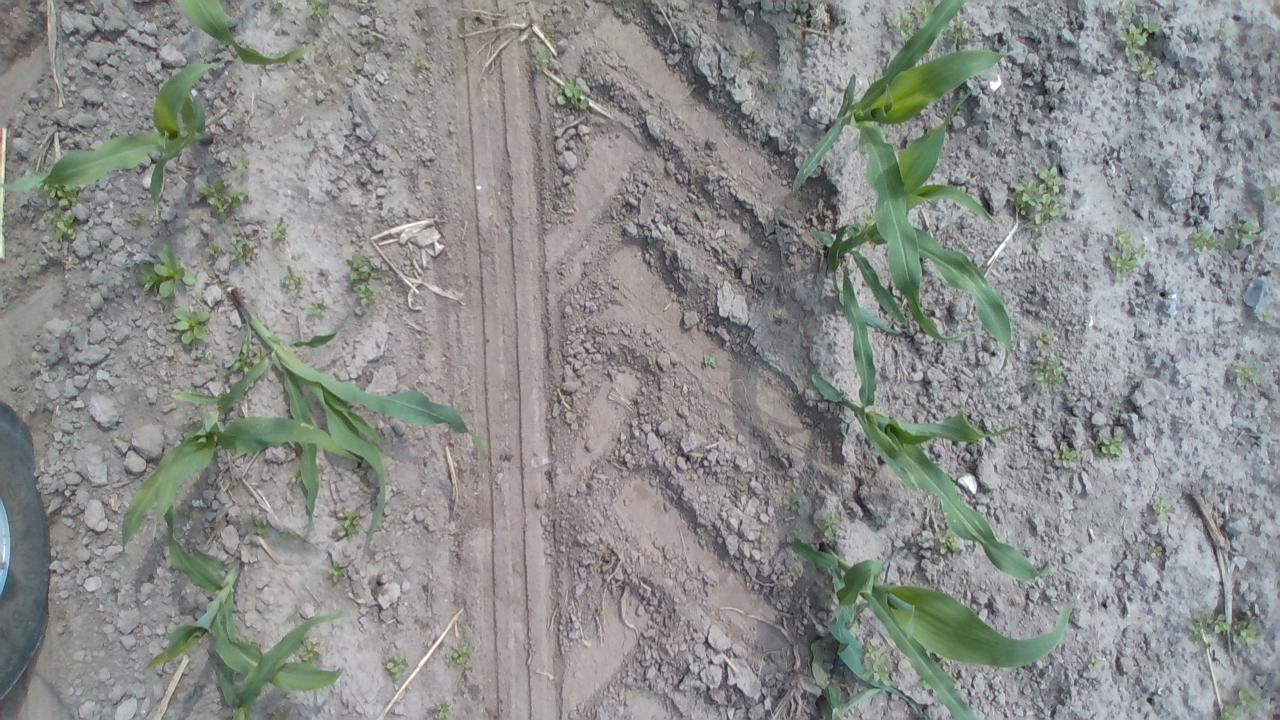Maize: (171, 283, 490, 542), (792, 0, 1022, 344), (808, 263, 1052, 582), (811, 86, 1013, 388), (790, 534, 1074, 720), (120, 414, 363, 574), (144, 505, 344, 689), (2, 60, 227, 206), (218, 613, 346, 720), (180, 0, 318, 65), (809, 636, 880, 720)
Weeds: (132, 241, 199, 300), (1008, 163, 1061, 231), (1104, 223, 1146, 282), (1118, 20, 1164, 68), (1186, 606, 1230, 652), (196, 178, 250, 214), (173, 306, 214, 344), (1223, 212, 1260, 254), (1218, 685, 1258, 719), (862, 644, 893, 686), (557, 77, 592, 110), (1032, 354, 1062, 391), (44, 208, 78, 240), (345, 253, 379, 284), (1086, 435, 1128, 459), (886, 6, 915, 39), (44, 182, 80, 208), (1226, 362, 1258, 391), (280, 262, 308, 294), (1231, 615, 1258, 646), (1185, 228, 1218, 253), (232, 342, 259, 371), (303, 0, 332, 27), (944, 18, 970, 48), (1052, 440, 1078, 470), (336, 509, 360, 540), (226, 238, 257, 262), (1128, 54, 1156, 80), (814, 512, 840, 540), (386, 650, 410, 679), (936, 530, 961, 554), (1258, 182, 1280, 206), (1114, 0, 1136, 23), (1150, 498, 1172, 521), (354, 282, 376, 305), (299, 640, 320, 664), (915, 0, 933, 26), (453, 640, 471, 666), (760, 74, 781, 96), (307, 298, 330, 318), (1029, 229, 1047, 253), (270, 218, 288, 241), (251, 516, 271, 536), (434, 701, 454, 720), (532, 52, 551, 72), (328, 562, 346, 583), (701, 351, 720, 370), (1216, 19, 1234, 39), (1036, 328, 1054, 348), (126, 208, 146, 226), (230, 153, 250, 171), (1110, 394, 1132, 408), (741, 46, 757, 65), (202, 241, 222, 256), (1260, 309, 1278, 325), (1087, 654, 1105, 670), (370, 34, 384, 52), (781, 498, 800, 511), (268, 2, 284, 17), (1149, 546, 1165, 560), (860, 210, 874, 225), (288, 472, 303, 486), (411, 54, 426, 68), (269, 710, 288, 720), (595, 604, 608, 616), (180, 506, 192, 516), (444, 654, 452, 668), (546, 26, 554, 38)
